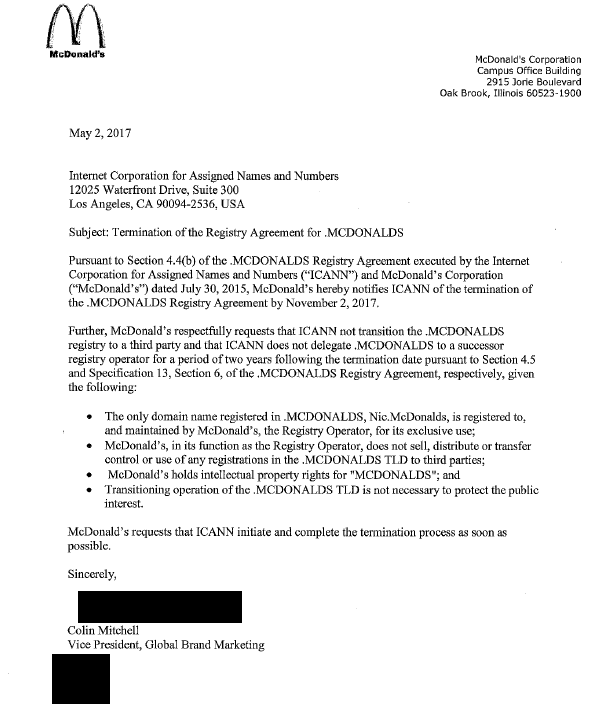mcdonalds: (35, 0, 110, 50)
